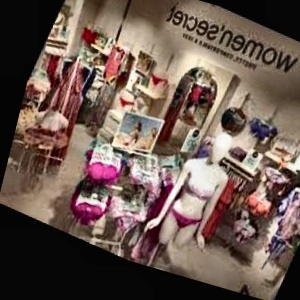women_secret: (249, 17, 300, 53)
